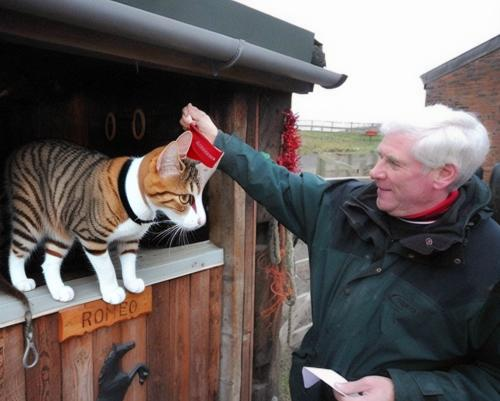cat: (2, 127, 198, 305)
person: (178, 103, 500, 401)
person/hand: (180, 103, 219, 147), (333, 376, 398, 401)
person/head: (371, 104, 491, 214)
